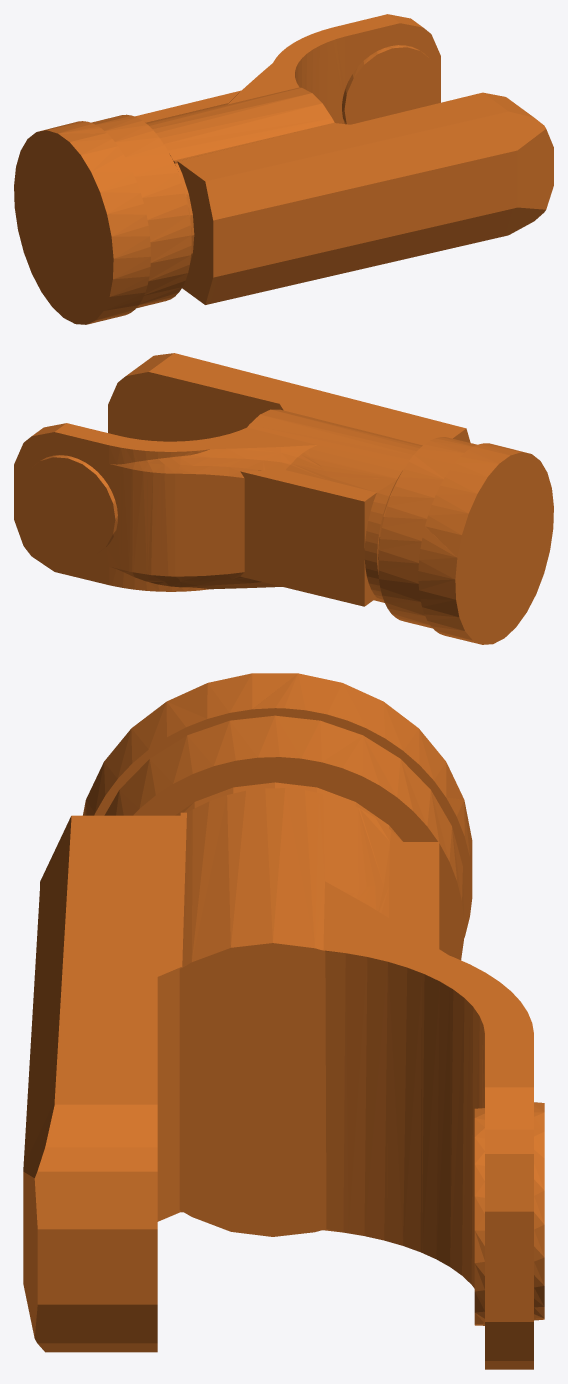
The picture shows the model from 3 angles, top to bottom: view 1: azimuth 30°, elevation 25°; view 2: azimuth 150°, elevation 25°; view 3: azimuth 270°, elevation 25°; orthographic projection. The views are drawn at different scales.
Parts seen in each view (by area): view 1: link_4; view 2: link_4; view 3: link_4.
Boxes of the visible parts, left/top/right/bottom form: link_4: left=14, top=14, right=553, bottom=324; link_4: left=14, top=353, right=553, bottom=644; link_4: left=23, top=673, right=544, bottom=1369.
Bounding box in the file's own units: 0.473 × 0.2505 × 0.19.
